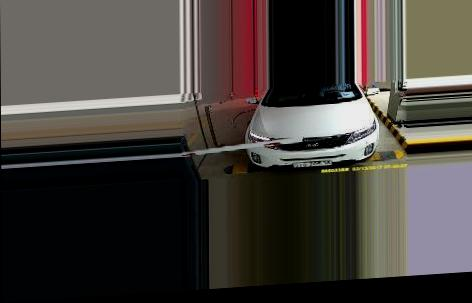License_Plate: (292, 157, 333, 170)
